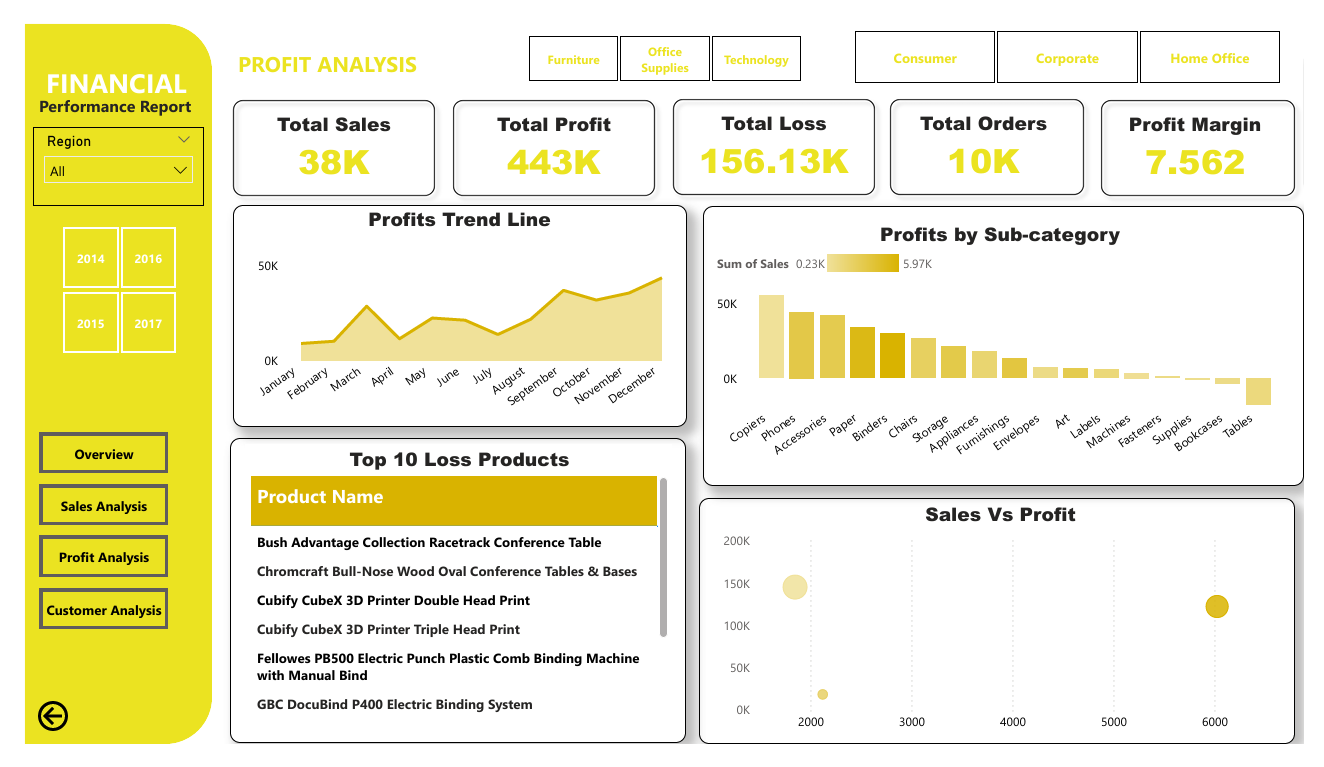

Layout of this report page (visuals, bound fields, positions):
{"tool":"powerbi","page":{"name":"Profit Analysis","canvas":[1280,720],"ordinal":2},"visuals":[{"type":"shape","box":[678.9,181.9,601.1,280.1],"z":0},{"type":"shape","box":[1,0,186.7,719.8],"z":1000},{"type":"textbox","box":[16.5,35,154.7,49.6],"z":2000},{"type":"shape","box":[640,66.1,219.9,113.8],"z":2500,"group":"g3"},{"type":"shape","box":[856.9,66.1,212,113.8],"z":2500,"group":"g4"},{"type":"shape","box":[200.4,67.1,220,113.8],"z":2500,"group":"g1"},{"type":"shape","box":[420.2,67.1,219.9,113.8],"z":2500,"group":"g2"},{"type":"shape","box":[1068,67.1,212,113.8],"z":2500,"group":"g5"},{"type":"textbox","box":[9.7,66.1,173.1,37],"z":3000},{"type":"card","title":"Total Orders","fields":{"Values":["CountNonNull(Sample - Superstore.Order ID)"]},"box":[857.9,85.4,203.4,75.9],"z":3000,"group":"g4"},{"type":"card","title":"Total Loss","fields":{"Values":["Sample - Superstore.Total Loss"]},"box":[640,85.6,219.9,75.9],"z":3000,"group":"g3"},{"type":"card","title":"Profit Margin","fields":{"Values":["Sample - Superstore.Profit Margin %"]},"box":[1068.7,86.4,204.3,75.9],"z":3000,"group":"g5"},{"type":"card","title":"Total Sales","fields":{"Values":["Sum(Sample - Superstore.Sales)"]},"box":[200.4,86.6,220,75.9],"z":3000,"group":"g1"},{"type":"card","title":"Total Profit","fields":{"Values":["Sample - Superstore.Total Profit"]},"box":[420.2,86.6,219.9,75.9],"z":3000,"group":"g2"},{"type":"group","id":"g1","title":"Group 1","box":[200.4,67.1,219.8,113.8],"z":4000},{"type":"group","id":"g2","title":"Group 1","box":[420.2,67.1,219.8,113.8],"z":5000},{"type":"shape","box":[206,414,456.2,305.4],"z":5000,"group":"g8"},{"type":"group","id":"g3","title":"Group 1","box":[640,66.1,219.8,113.8],"z":6000},{"type":"group","id":"g4","title":"Group 1","box":[856.9,66.1,219.8,113.8],"z":7000},{"type":"group","id":"g5","title":"Group 1","box":[1068,67.1,212,113.8],"z":8000},{"type":"textbox","box":[209.1,20.2,211.1,46.5],"z":9000},{"type":"shape","box":[209.1,180.9,454.2,221.8],"z":9000,"group":"g6"},{"type":"lineChart","title":"Profits Trend Line","fields":{"Category":["Sample - Superstore.Order Date.Variation.Date Hierarchy.Month"],"Y":["Sum(Sample - Superstore.Profit)"]},"box":[215.5,180.9,440.6,221.8],"z":10000,"group":"g6"},{"type":"group","id":"g6","title":"Group 2","box":[209.1,180.9,454.2,221.8],"z":11000},{"type":"shape","box":[674.9,473.9,596.2,246.1],"z":11000,"group":"g7"},{"type":"slicer","fields":{"Values":["Sample - Superstore.Region"]},"box":[8.8,103.1,171.2,78.8],"z":12000},{"type":"scatterChart","title":"Sales  Vs Profit","fields":{"X":["CountNonNull(Sample - Superstore.Sales)"],"Y":["Sum(Sample - Superstore.Profit)"],"Size":["Sum(Sample - Superstore.Profit)"],"Category":["Sample - Superstore.Category"]},"box":[694.4,475.9,564.1,239.8],"z":12000,"group":"g7"},{"type":"slicer","fields":{"Values":["Sample - Superstore.Category"]},"box":[478.5,4.9,322.9,59.3],"z":13000},{"type":"slicer","fields":{"Values":["Sample - Superstore.Segment"]},"box":[805.3,0,474.7,66.1],"z":14000},{"type":"slicer","fields":{"Values":["Sample - Superstore.Order Date.Variation.Date Hierarchy.Year"]},"box":[12.6,195.5,163.4,140.1],"z":15000},{"type":"actionButton","box":[16.2,460.6,128.3,40.4],"z":16000},{"type":"actionButton","box":[16.2,409.1,128.3,40.4],"z":17000},{"type":"actionButton","box":[16.2,512.1,128.3,40.4],"z":18000},{"type":"actionButton","box":[16.2,564.6,128.3,40.4],"z":19000},{"type":"actionButton","box":[8.8,672.1,100.2,39.9],"z":20000},{"type":"group","id":"g7","title":"Group 3","box":[674.9,473.9,596.2,246.1],"z":21000},{"type":"group","id":"g8","title":"Group 4","box":[206,414,456.2,305.4],"z":22000},{"type":"columnChart","title":"Profits by Sub-category","fields":{"Category":["Sample - Superstore.Sub-Category"],"Y":["Sum(Sample - Superstore.Profit)"]},"box":[687.7,195.5,576.8,255.8],"z":22500},{"type":"tableEx","title":"Top 10 Loss Products","fields":{"Values":["Sample - Superstore.Product Name"]},"box":[221.6,420.8,427,286],"z":24000,"group":"g8"}]}

Visuals, with their boxes in screenshot pixels (x1, y1, x2, y2), scaled from the page's 1280x720 canvas onto the 1324x767 screenshot:
shape: bbox=[702, 194, 1323, 492]
shape: bbox=[1, 0, 194, 766]
textbox: bbox=[17, 37, 177, 90]
shape: bbox=[662, 70, 889, 192]
shape: bbox=[886, 70, 1106, 192]
shape: bbox=[207, 71, 435, 193]
shape: bbox=[435, 71, 662, 193]
shape: bbox=[1105, 71, 1323, 193]
textbox: bbox=[10, 70, 189, 110]
"Total Orders" card: bbox=[887, 91, 1098, 172]
"Total Loss" card: bbox=[662, 91, 889, 172]
"Profit Margin" card: bbox=[1105, 92, 1317, 173]
"Total Sales" card: bbox=[207, 92, 435, 173]
"Total Profit" card: bbox=[435, 92, 662, 173]
"Group 1" group: bbox=[207, 71, 435, 193]
"Group 1" group: bbox=[435, 71, 662, 193]
shape: bbox=[213, 441, 685, 766]
"Group 1" group: bbox=[662, 70, 889, 192]
"Group 1" group: bbox=[886, 70, 1114, 192]
"Group 1" group: bbox=[1105, 71, 1323, 193]
textbox: bbox=[216, 22, 435, 71]
shape: bbox=[216, 193, 686, 429]
"Profits Trend Line" lineChart: bbox=[223, 193, 679, 429]
"Group 2" group: bbox=[216, 193, 686, 429]
shape: bbox=[698, 505, 1315, 766]
slicer - Sample - Superstore.Region: bbox=[9, 110, 186, 194]
"Sales  Vs Profit" scatterChart: bbox=[718, 507, 1302, 762]
slicer - Sample - Superstore.Category: bbox=[495, 5, 829, 68]
slicer - Sample - Superstore.Segment: bbox=[833, 0, 1323, 70]
slicer - Sample - Superstore.Order Date.Variation.Date Hierarchy.Year: bbox=[13, 208, 182, 358]
actionButton: bbox=[17, 491, 149, 534]
actionButton: bbox=[17, 436, 149, 479]
actionButton: bbox=[17, 546, 149, 589]
actionButton: bbox=[17, 601, 149, 644]
actionButton: bbox=[9, 716, 113, 758]
"Group 3" group: bbox=[698, 505, 1315, 766]
"Group 4" group: bbox=[213, 441, 685, 766]
"Profits by Sub-category" columnChart: bbox=[711, 208, 1308, 481]
"Top 10 Loss Products" tableEx: bbox=[229, 448, 671, 753]
